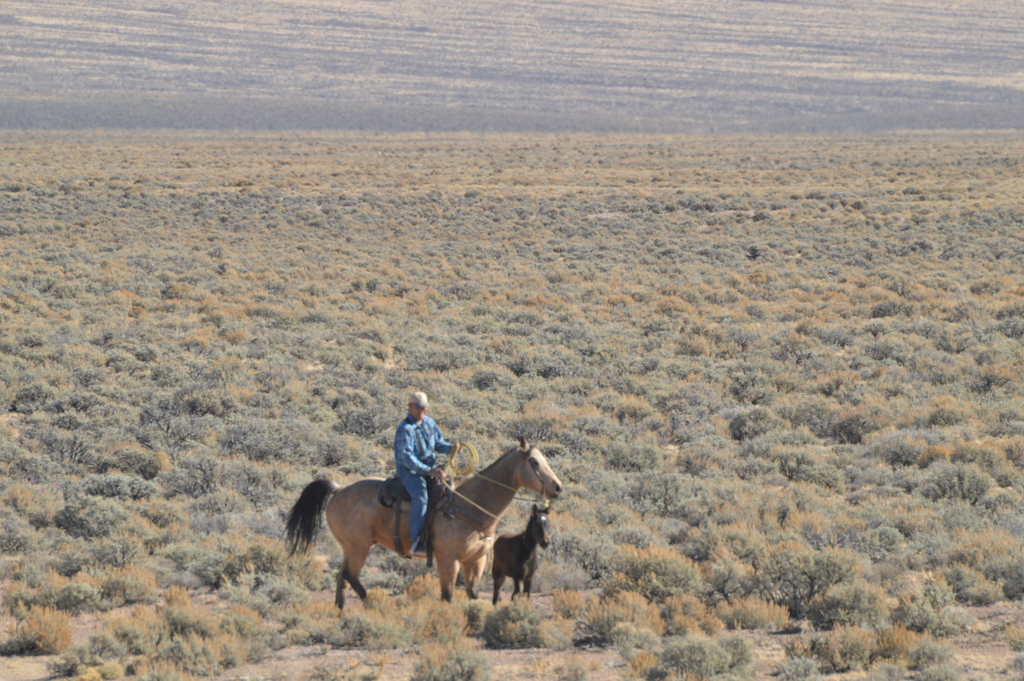horse: (491, 503, 552, 607)
